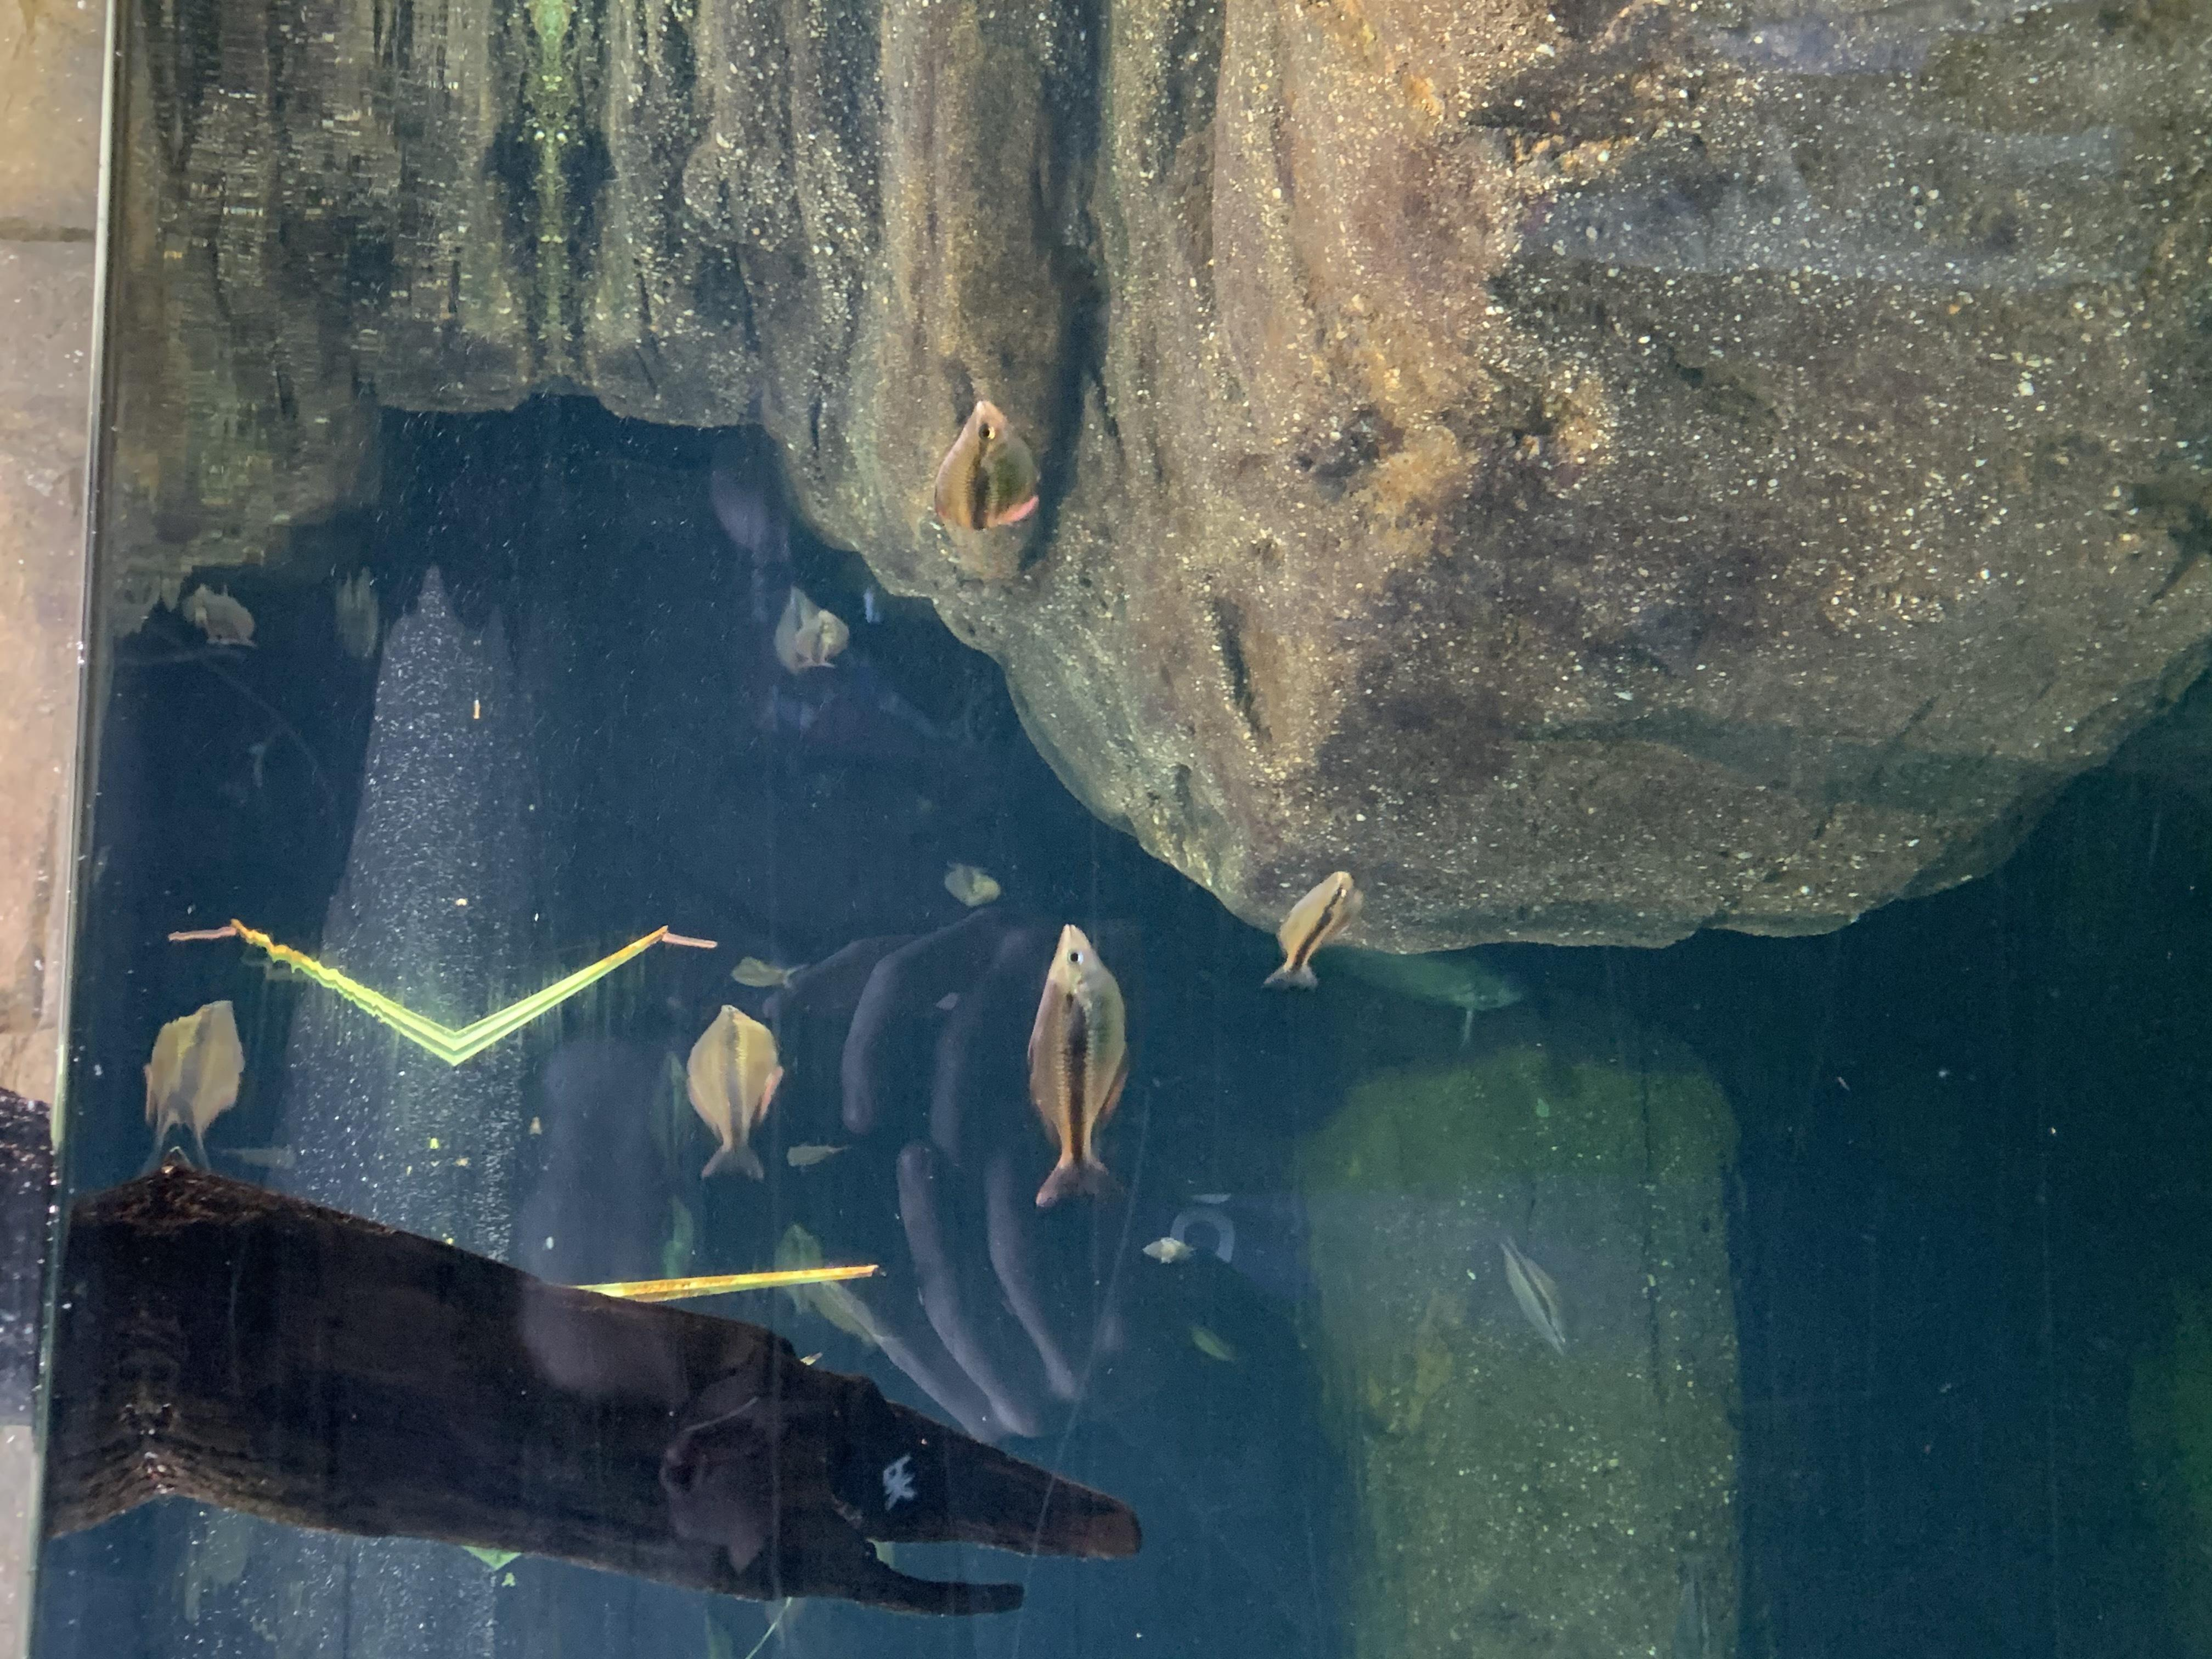fish: (1017, 913, 1150, 1215), (927, 392, 1054, 547), (131, 1004, 258, 1157), (1247, 859, 1378, 997), (681, 1004, 782, 1182), (1496, 1223, 1588, 1371), (772, 586, 852, 673), (329, 565, 388, 662)
